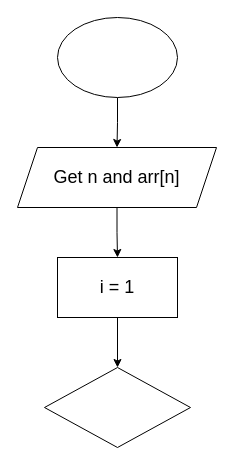
The diagram is 234 pixels wide and 465 high, and some of its shapes have lost their labels. The shapes that lost their labels are listed below. From the top down, each one's centre as x and y in pixels, then its label:
pixel 117 57: Start
pixel 117 407: i < n
